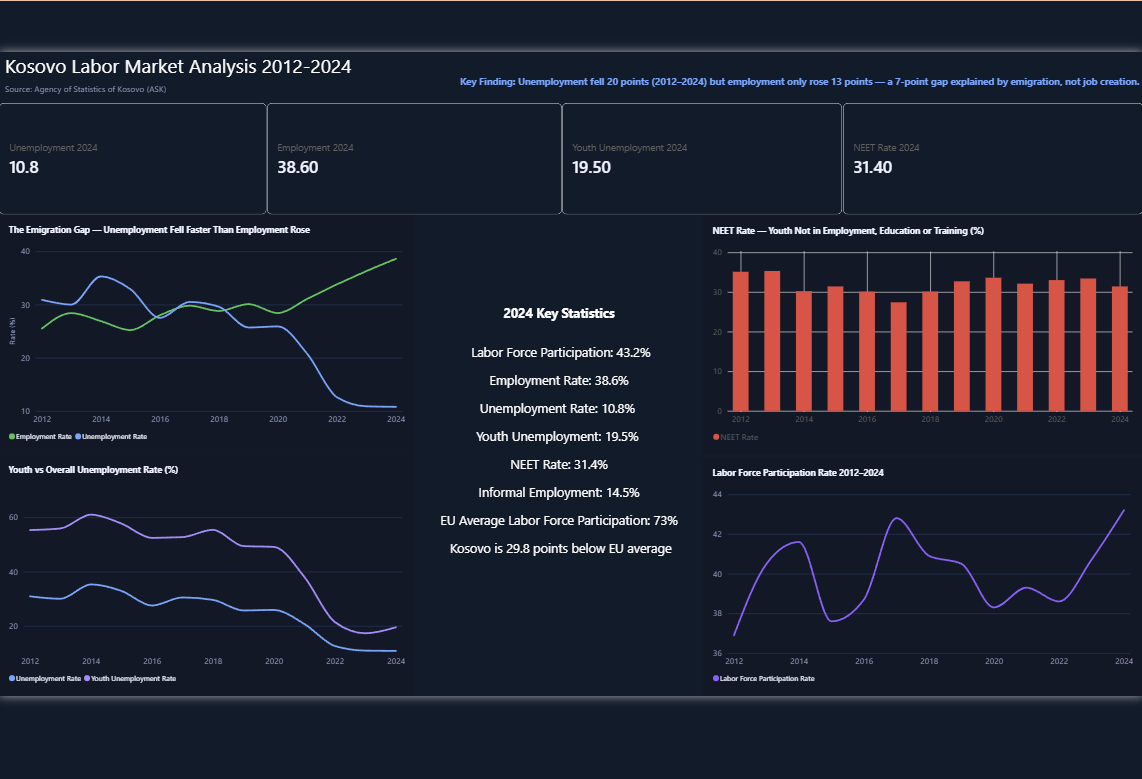

Layout of this report page (visuals, bound fields, positions):
{"tool":"powerbi","page":{"name":"Page 1","canvas":[1920,1080],"ordinal":0},"visuals":[{"type":"textbox","box":[10.1,0,783.2,52.4],"z":0},{"type":"textbox","box":[10.1,52.4,783.2,33.8],"z":1},{"type":"cardVisual","fields":{"Data":["kosovo_labor_market_clean.Unemployment 2024"]},"box":[0,85.6,450,187.8],"z":2},{"type":"cardVisual","fields":{"Data":["kosovo_labor_market_clean.Employment 2024"]},"box":[450,86.3,495.6,187.8],"z":3},{"type":"cardVisual","fields":{"Data":["kosovo_labor_market_clean.Youth Unemployment 2024"]},"box":[945.6,86.3,470.3,187.8],"z":4},{"type":"cardVisual","fields":{"Data":["kosovo_labor_market_clean.NEET Rate 2024"]},"box":[1415.9,86.3,504.1,187.8],"z":5},{"type":"lineChart","title":"The Emigration Gap — Unemployment Fell Faster Than Employment Rose","fields":{"Category":["kosovo_labor_market_clean.Year"],"Y":["Sum(kosovo_labor_market_clean.Value)"],"Series":["kosovo_labor_market_clean.Indicator"]},"box":[0,273.6,698.2,401.1],"z":6},{"type":"lineChart","title":"Youth vs Overall Unemployment Rate (%)","fields":{"Category":["kosovo_labor_market_clean.Year"],"Y":["Sum(kosovo_labor_market_clean.Value)"],"Series":["kosovo_labor_market_clean.Indicator"]},"box":[0,676.4,698.2,404.5],"z":7},{"type":"clusteredColumnChart","title":"NEET Rate — Youth Not in Employment, Education or Training (%)","fields":{"Category":["kosovo_labor_market_clean.Year"],"Y":["Sum(kosovo_labor_market_clean.Value)"],"Series":["kosovo_labor_market_clean.Indicator"]},"box":[1181.5,275.2,736.8,401.1],"z":8},{"type":"lineChart","title":"Labor Force Participation Rate 2012–2024","fields":{"Category":["kosovo_labor_market_clean.Year"],"Y":["Sum(kosovo_labor_market_clean.Value)"],"Series":["kosovo_labor_market_clean.Indicator"]},"box":[1181.5,681.4,738.5,399.4],"z":9},{"type":"textbox","box":[698.2,422.9,483.4,656.2],"z":10},{"type":"textbox","box":[698.2,867.7,149.4,211.5],"z":11},{"type":"textbox","box":[773.7,38.6,1144.6,47],"z":12}]}

Visuals, with their boxes on the page's 1920x1080 design canvas (x1, y1, x2, y2). These are canvas units, not pixel positions in the 1142x779 screenshot, which may show the page scaled, cropped or inside an application window:
textbox: box(10, 0, 793, 52)
textbox: box(10, 52, 793, 86)
cardVisual - kosovo_labor_market_clean.Unemployment 2024: box(0, 86, 450, 273)
cardVisual - kosovo_labor_market_clean.Employment 2024: box(450, 86, 946, 274)
cardVisual - kosovo_labor_market_clean.Youth Unemployment 2024: box(946, 86, 1416, 274)
cardVisual - kosovo_labor_market_clean.NEET Rate 2024: box(1416, 86, 1920, 274)
"The Emigration Gap — Unemployment Fell Faster Than Employment Rose" lineChart: box(0, 274, 698, 675)
"Youth vs Overall Unemployment Rate (%)" lineChart: box(0, 676, 698, 1081)
"NEET Rate — Youth Not in Employment, Education or Training (%)" clusteredColumnChart: box(1182, 275, 1918, 676)
"Labor Force Participation Rate 2012–2024" lineChart: box(1182, 681, 1920, 1081)
textbox: box(698, 423, 1182, 1079)
textbox: box(698, 868, 848, 1079)
textbox: box(774, 39, 1918, 86)
